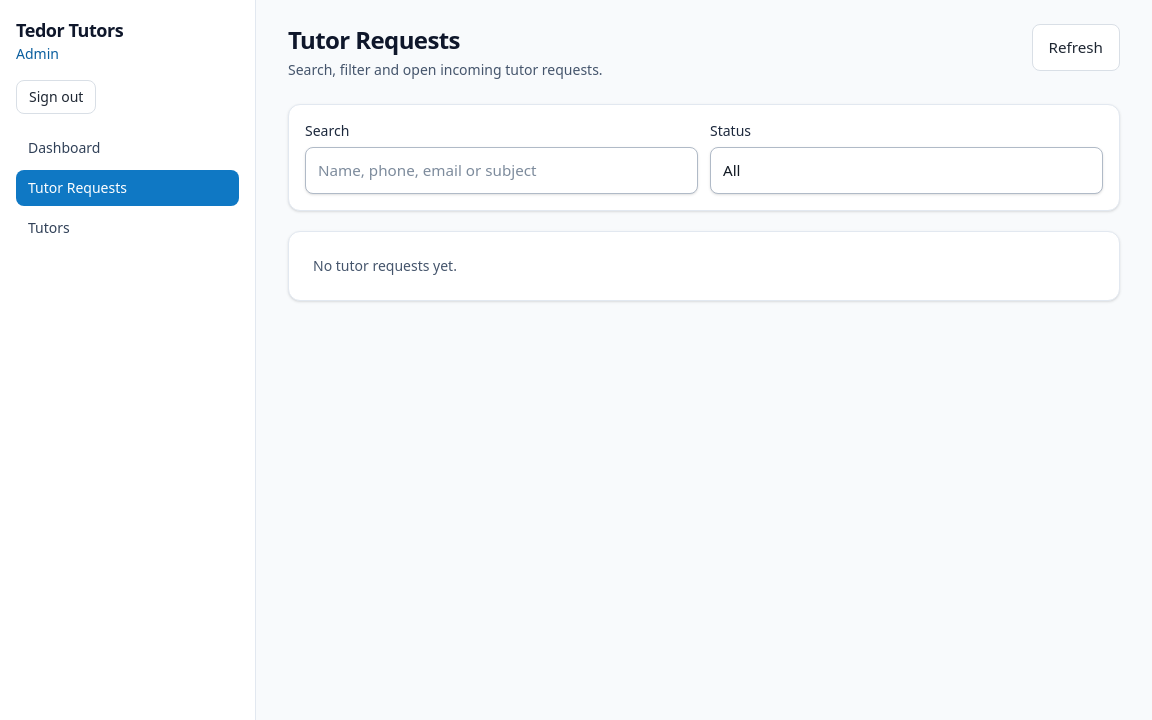
Test: AdminRequestsPage › shows a helpful empty message when a search matches nothing
Expected: the text "No tutor requests yet." is shown, [288,231,1120,301]
Type "zzzz-no-match" into the search field labelled "Search" at point(502, 170), box [305,147,698,194]
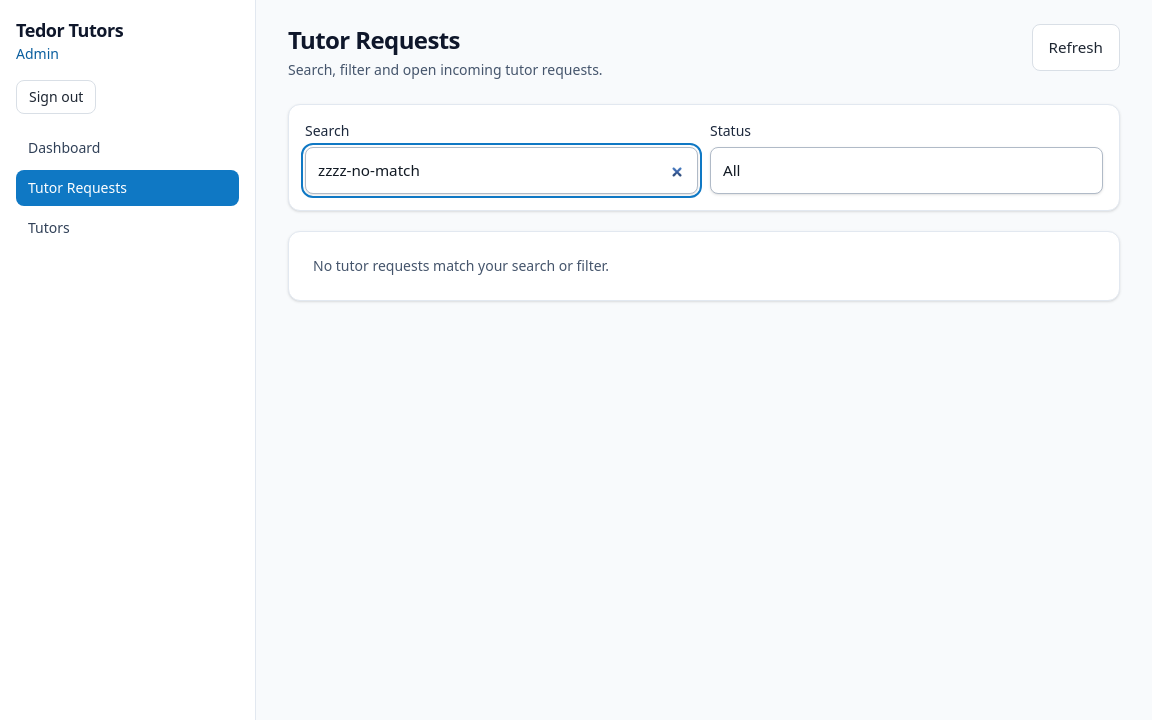
Expected: the text "No tutor requests match your search or filter." is shown, [288,231,1120,301]
